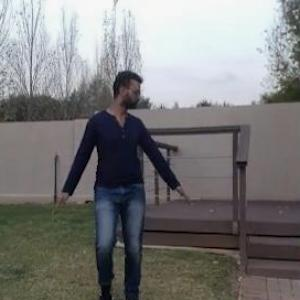land: (58, 68, 189, 299)
